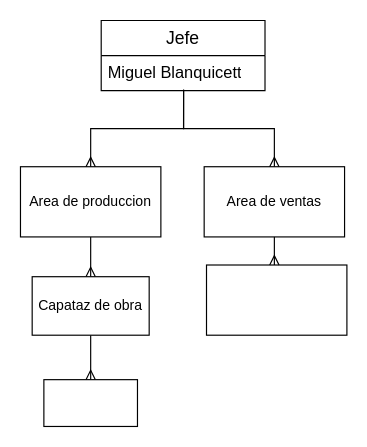
Some shapes in this 367 by 447 pixel diagram are drawn without their labels. Each missing label, with the box of its shape:
Asistente de jefe: (205, 264, 347, 335)
Obreros: (43, 378, 137, 426)
